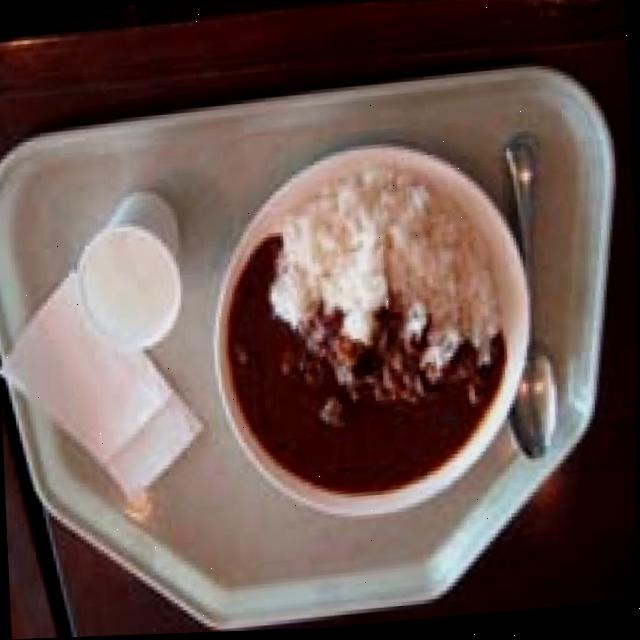牛肉菜式: (201, 143, 537, 538)
